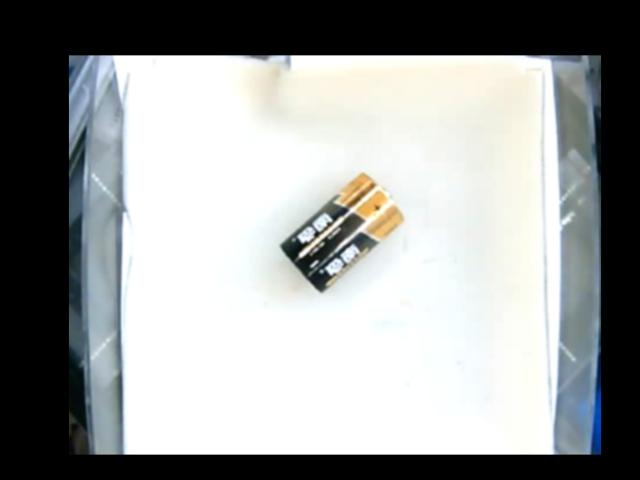Battery: (284, 172, 401, 293)
